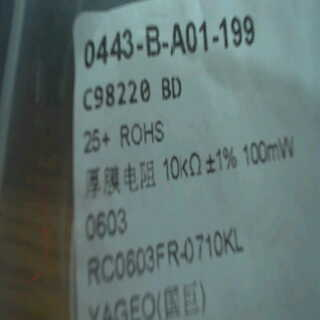10kR: (160, 146, 204, 185)
